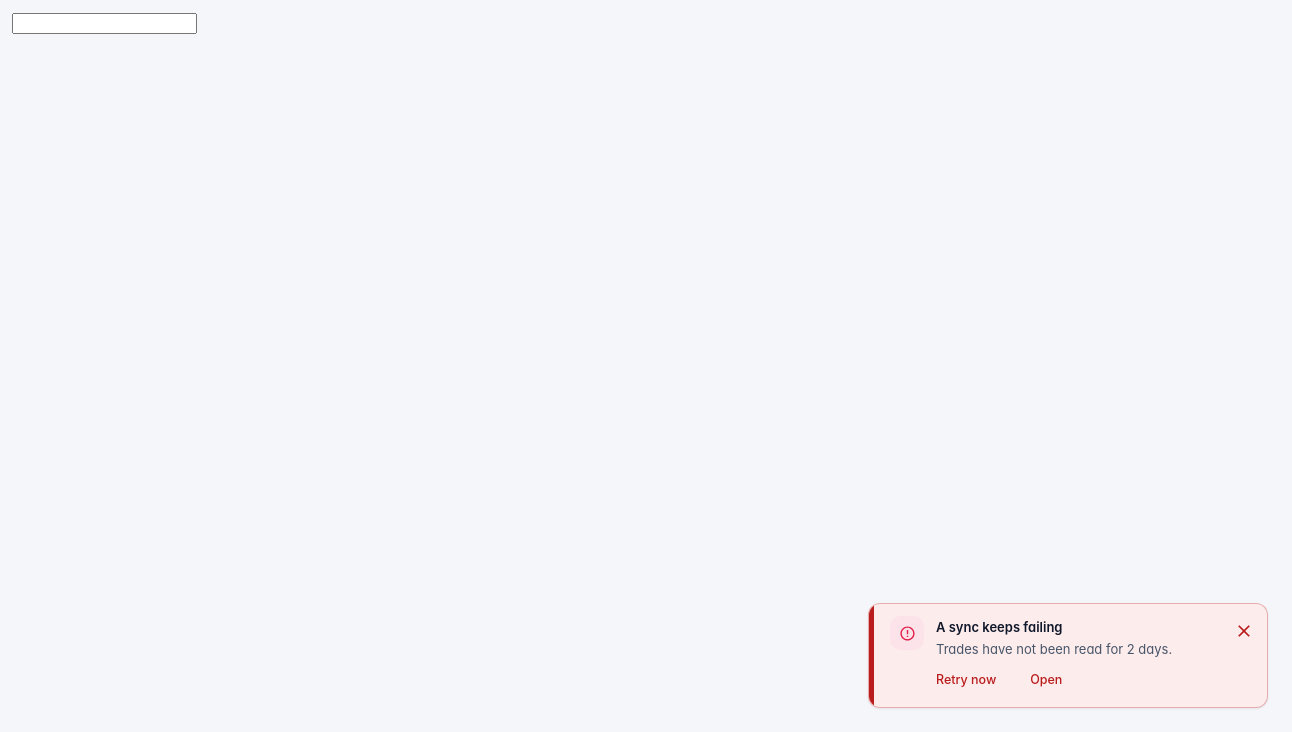
ToastProvider: content and announcement › shows a title, the message, at most two buttons and a close button; a button runs and closes the toast
Expected: the heading "A sync keeps failing" is shown, [936,619,1062,635]
Expected: the text "Trades have not been read for 2 days." is shown, [936,640,1172,656]
Step 1. Click the button "Open" → (1046, 680), box [1014,665,1078,695]
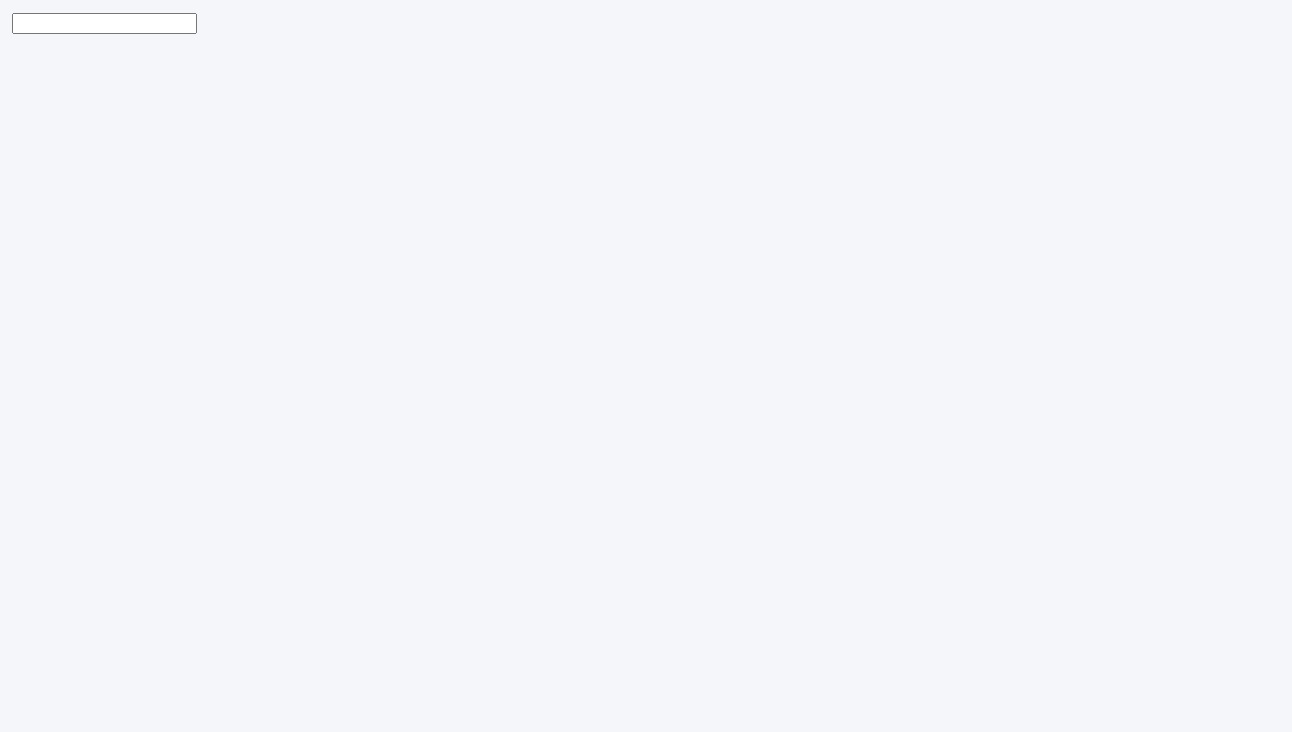
Expected: the message "A sync keeps failing Trades have not been read for 2 days. Retry now Open" is gone
